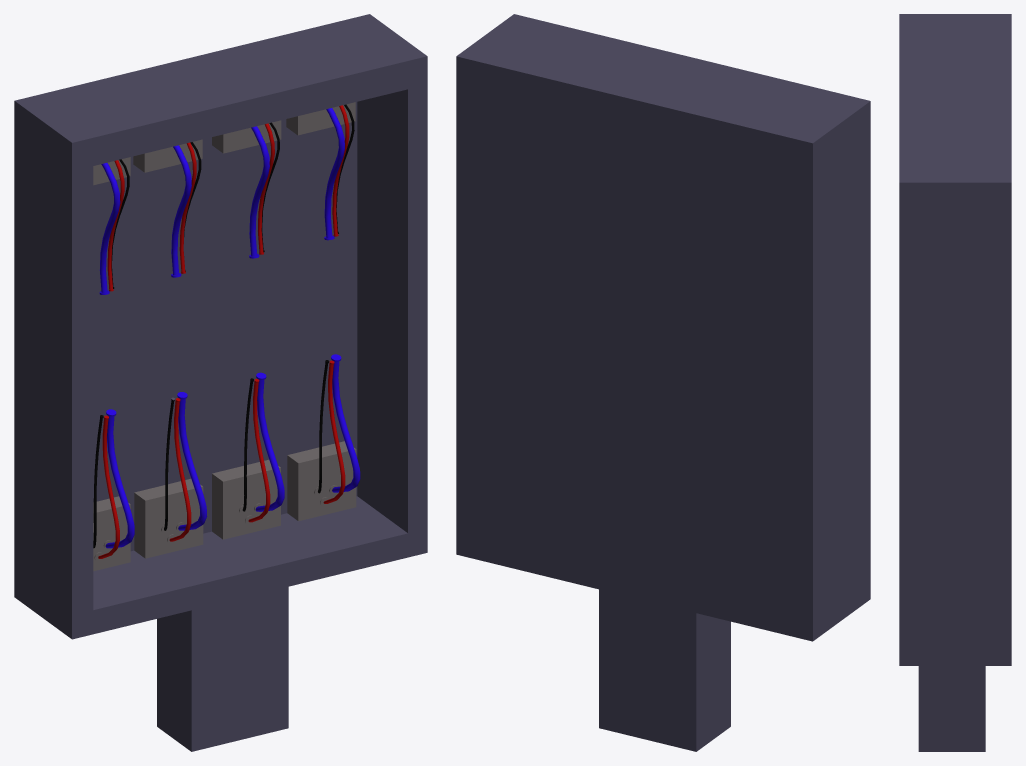
The model's file is Fusebox.fbx.
The picture shows the model from 3 angles, left to right: view 1: azimuth 30°, elevation 25°; view 2: azimuth 150°, elevation 25°; view 3: azimuth 270°, elevation 25°; orthographic projection. The views are drawn at different scales.
Parts seen in each view (by area): view 1: Fuse Box; view 2: Fuse Box; view 3: Fuse Box.
Part boxes in pixels (left/top/right/bottom): Fuse Box: left=14, top=14, right=427, bottom=751; Fuse Box: left=456, top=14, right=870, bottom=751; Fuse Box: left=899, top=14, right=1011, bottom=751.
Size of the model in its own units: 615 by 1071 by 173.
